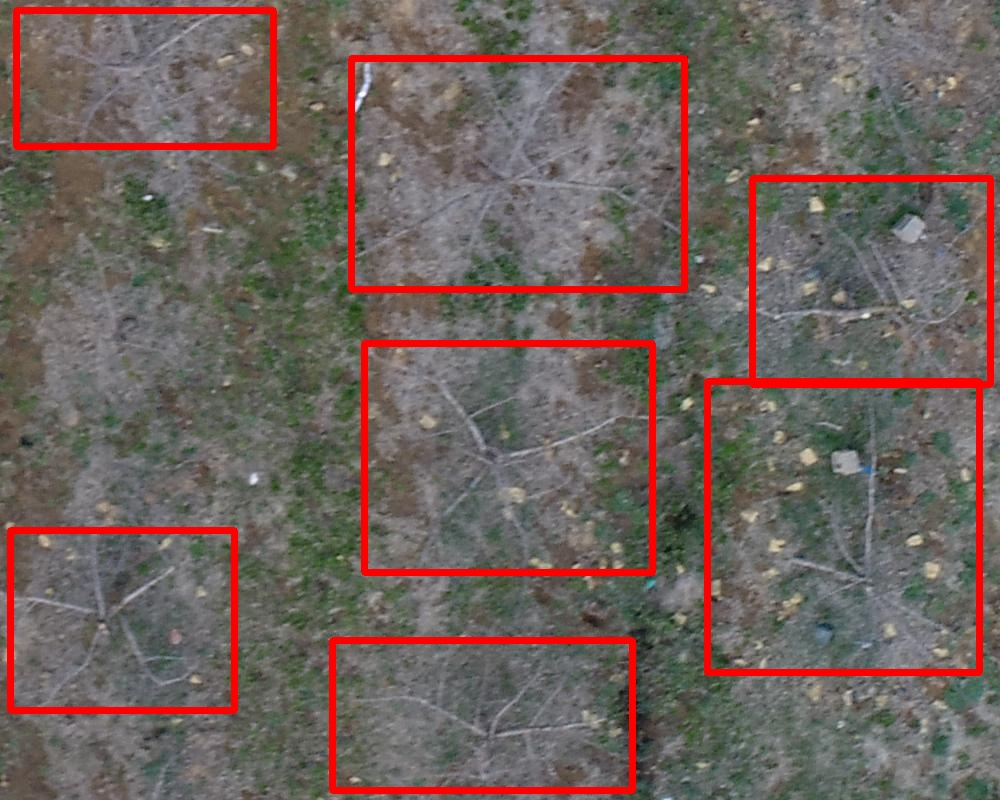apple: (707, 381, 979, 672), (351, 58, 684, 289), (364, 343, 652, 572), (752, 178, 990, 384), (332, 640, 632, 790), (10, 530, 234, 710), (16, 10, 273, 146)
